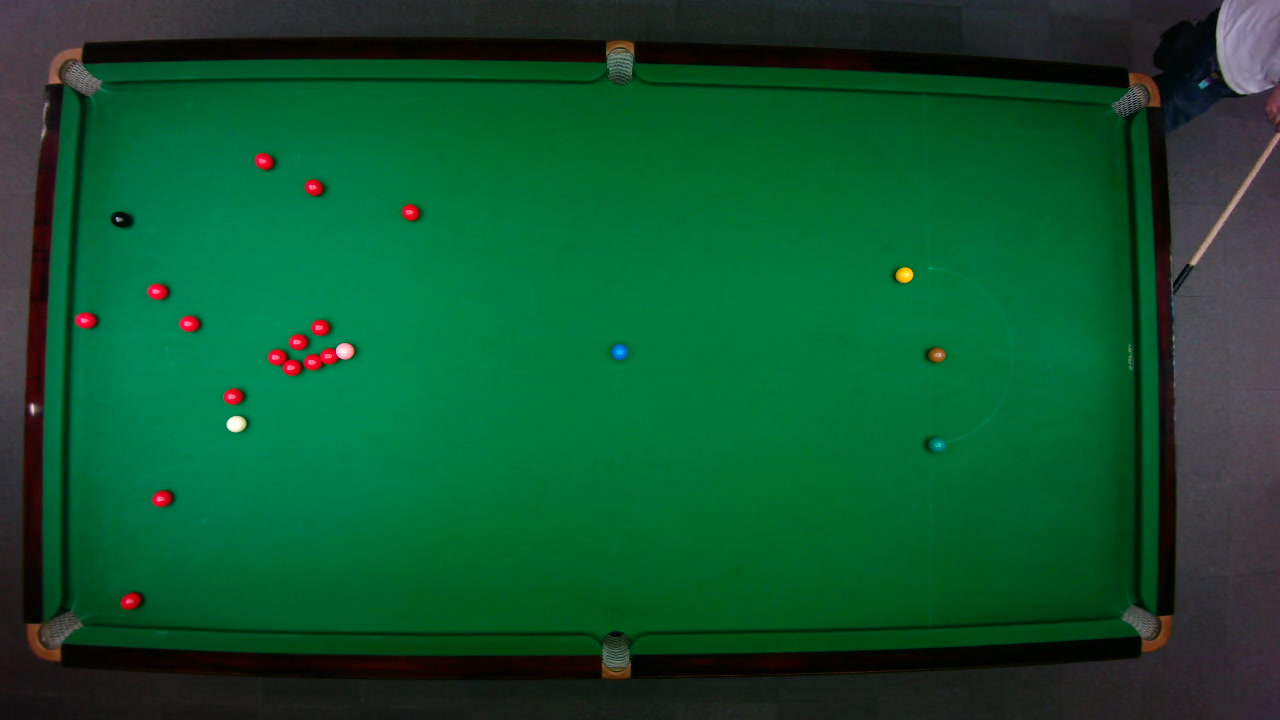bag: (25, 609, 83, 661), (45, 46, 102, 96), (1118, 603, 1171, 652), (1109, 71, 1160, 118), (600, 629, 630, 680), (605, 38, 633, 85)
black: (109, 210, 131, 228)
blue: (610, 342, 628, 360)
brown: (926, 346, 946, 362)
green: (926, 435, 946, 453)
pink: (334, 341, 355, 360)
red: (118, 590, 142, 610), (149, 488, 173, 507), (145, 281, 168, 300), (177, 314, 200, 332), (73, 311, 97, 328), (303, 177, 324, 196), (253, 151, 274, 170), (221, 387, 244, 404), (400, 202, 420, 221), (281, 358, 302, 376), (287, 332, 308, 350), (302, 352, 323, 370), (266, 348, 287, 365), (309, 318, 330, 335), (319, 346, 337, 365)
white: (224, 413, 247, 433)
yellow: (894, 265, 914, 283)
zone: (926, 265, 1013, 444)
